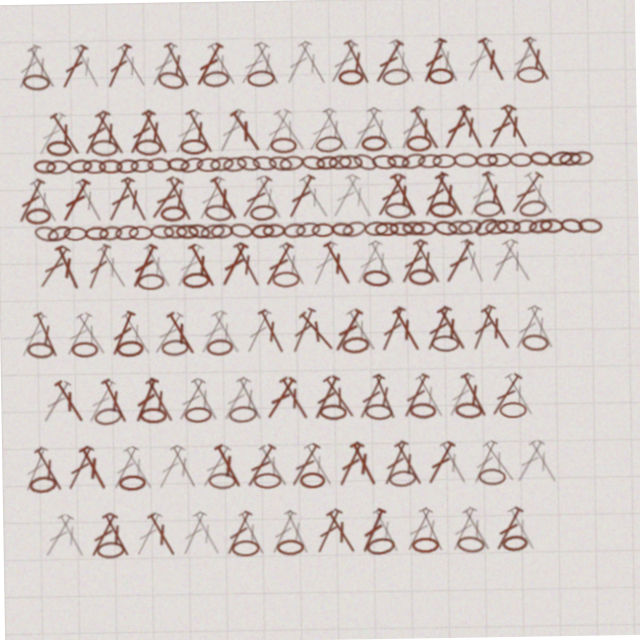chain: (160, 67, 190, 89), (474, 218, 501, 241), (362, 537, 392, 557), (354, 152, 381, 174), (520, 202, 549, 222), (92, 403, 121, 423), (47, 219, 74, 240), (181, 153, 208, 173), (318, 135, 346, 154), (206, 202, 234, 221), (227, 404, 256, 422), (26, 69, 54, 87), (386, 69, 414, 87), (251, 203, 279, 221), (386, 203, 414, 221), (363, 270, 391, 288), (26, 337, 54, 355), (521, 337, 549, 355), (363, 404, 391, 422), (453, 404, 481, 422), (26, 471, 54, 489), (386, 471, 414, 489), (453, 538, 481, 556), (238, 153, 264, 172), (403, 153, 429, 172), (550, 153, 576, 172), (35, 220, 61, 239), (343, 220, 369, 239), (206, 69, 234, 86), (251, 69, 279, 86), (93, 136, 121, 153), (476, 203, 504, 220), (341, 337, 369, 354), (431, 337, 459, 354), (93, 538, 121, 555), (188, 220, 213, 239), (270, 154, 296, 172), (303, 154, 329, 172), (201, 221, 227, 239), (434, 221, 460, 239), (529, 221, 555, 239), (138, 136, 165, 153), (431, 203, 458, 220), (183, 270, 210, 287), (116, 337, 143, 354), (161, 337, 188, 354), (206, 337, 233, 354), (318, 404, 345, 421), (408, 404, 435, 421), (206, 471, 233, 488), (476, 471, 503, 488), (498, 538, 525, 555), (561, 221, 586, 239), (251, 472, 279, 488), (228, 539, 256, 555), (49, 136, 75, 153), (364, 136, 390, 153), (254, 154, 280, 171), (281, 154, 307, 171), (27, 203, 53, 220), (162, 203, 188, 220), (409, 270, 435, 287), (521, 70, 548, 86), (183, 137, 210, 153), (273, 137, 300, 153), (138, 271, 165, 287), (273, 271, 300, 287), (71, 338, 98, 354), (138, 405, 165, 421), (183, 405, 210, 421), (498, 405, 525, 421), (116, 472, 143, 488), (273, 539, 300, 555), (408, 539, 435, 555), (212, 154, 237, 171), (531, 154, 556, 171), (116, 221, 141, 238), (230, 221, 255, 238), (297, 221, 322, 238), (459, 221, 484, 238), (342, 70, 368, 86), (432, 70, 458, 86), (409, 137, 435, 153), (297, 472, 323, 488), (48, 155, 73, 171), (225, 155, 250, 171), (374, 155, 399, 171), (420, 155, 445, 171), (390, 222, 415, 238), (449, 222, 474, 238), (514, 222, 539, 238), (579, 222, 604, 238), (118, 155, 142, 171), (318, 155, 342, 171), (389, 155, 413, 171), (561, 155, 585, 171), (100, 222, 124, 238), (252, 222, 276, 238), (284, 222, 308, 238), (332, 222, 356, 238), (403, 222, 427, 238), (486, 222, 510, 238), (70, 155, 95, 170), (150, 155, 174, 170), (169, 155, 193, 170), (341, 155, 365, 170), (456, 155, 480, 170), (572, 155, 596, 170), (152, 222, 176, 237), (165, 222, 189, 237), (366, 222, 390, 237), (498, 222, 522, 237), (541, 222, 565, 237), (36, 155, 59, 170), (331, 155, 354, 170), (177, 222, 200, 237), (212, 222, 235, 237), (85, 156, 109, 170), (101, 156, 125, 170), (199, 156, 223, 170), (435, 156, 459, 170), (490, 156, 514, 170), (65, 223, 89, 237), (86, 223, 110, 237), (130, 223, 154, 237), (376, 223, 400, 237), (413, 223, 437, 237), (133, 156, 156, 170), (478, 156, 501, 170), (512, 156, 535, 170), (264, 223, 287, 237), (313, 223, 336, 237)
double: (296, 308, 338, 354), (148, 173, 188, 220), (508, 173, 548, 220), (477, 441, 517, 488), (148, 307, 187, 355), (260, 374, 299, 422), (485, 374, 524, 422), (274, 106, 313, 153), (319, 374, 358, 421), (239, 39, 277, 87), (50, 106, 88, 154), (230, 106, 268, 154), (298, 173, 336, 221), (343, 307, 381, 355), (36, 374, 74, 422), (194, 441, 232, 489), (239, 441, 277, 489), (36, 508, 74, 556), (239, 173, 277, 220), (36, 240, 74, 287), (28, 39, 65, 87), (118, 39, 155, 87), (208, 39, 245, 87), (329, 39, 366, 87), (374, 39, 411, 87), (36, 106, 73, 154), (95, 106, 132, 154), (306, 106, 343, 154), (351, 106, 388, 154), (486, 106, 523, 154), (59, 173, 96, 221), (329, 173, 366, 221), (523, 173, 560, 221), (95, 240, 132, 288), (261, 240, 298, 288), (441, 240, 478, 288), (500, 240, 537, 288), (118, 307, 155, 355), (163, 307, 200, 355), (208, 307, 245, 355), (329, 307, 366, 355), (478, 307, 515, 355), (81, 374, 118, 422), (275, 374, 312, 422), (500, 374, 537, 422), (118, 441, 155, 489), (253, 441, 290, 489), (284, 441, 321, 489), (298, 441, 335, 489), (509, 441, 546, 489), (523, 441, 560, 489), (320, 508, 357, 556), (150, 38, 186, 87), (285, 172, 321, 221), (141, 239, 177, 288), (217, 239, 253, 288), (321, 239, 357, 288), (60, 306, 96, 355), (195, 306, 231, 355), (186, 373, 222, 422), (186, 507, 222, 556), (397, 507, 433, 556), (374, 173, 411, 220), (73, 307, 110, 354), (50, 374, 87, 421), (195, 39, 231, 87), (299, 39, 335, 87), (172, 106, 208, 154), (262, 106, 298, 154), (411, 106, 447, 154), (434, 173, 470, 221), (172, 240, 208, 288), (487, 240, 523, 288), (389, 307, 425, 355), (434, 307, 470, 355), (141, 374, 177, 422), (172, 374, 208, 422), (217, 374, 253, 422), (411, 374, 447, 422), (29, 441, 65, 489), (150, 441, 186, 489), (389, 441, 425, 489), (420, 441, 456, 489), (82, 508, 118, 556), (141, 508, 177, 556), (456, 508, 492, 556), (487, 508, 523, 556), (501, 508, 537, 556), (74, 38, 109, 87), (285, 38, 320, 87), (465, 38, 500, 87), (479, 38, 514, 87), (510, 38, 545, 87), (524, 38, 559, 87), (82, 105, 117, 154), (127, 105, 162, 154), (186, 105, 221, 154), (217, 105, 252, 154), (501, 105, 536, 154), (15, 172, 50, 221), (105, 172, 140, 221), (195, 172, 230, 221), (344, 172, 379, 221), (389, 172, 424, 221), (186, 239, 221, 288), (231, 239, 266, 288), (352, 239, 387, 288), (366, 239, 401, 288), (397, 239, 432, 288), (411, 239, 446, 288), (524, 306, 559, 355), (397, 373, 432, 422), (442, 373, 477, 422), (456, 373, 491, 422), (60, 440, 95, 489), (74, 440, 109, 489), (164, 440, 199, 489), (209, 440, 244, 489), (51, 507, 86, 556), (96, 507, 131, 556), (127, 507, 162, 556), (366, 507, 401, 556), (442, 106, 477, 154), (29, 173, 64, 221), (74, 173, 109, 221), (209, 173, 244, 221), (510, 307, 545, 355), (434, 441, 469, 489), (165, 38, 199, 87), (255, 38, 289, 87), (345, 38, 379, 87), (390, 38, 424, 87), (142, 105, 176, 154), (398, 105, 432, 154), (457, 105, 491, 154), (120, 172, 154, 221), (165, 172, 199, 221), (255, 172, 289, 221), (466, 172, 500, 221), (128, 239, 162, 288), (308, 239, 342, 288), (255, 306, 289, 355), (421, 306, 455, 355), (97, 373, 131, 422), (232, 373, 266, 422), (345, 440, 379, 489), (376, 440, 410, 489), (173, 507, 207, 556), (277, 507, 311, 556), (308, 507, 342, 556), (443, 507, 477, 556), (61, 39, 95, 87), (322, 106, 356, 154), (367, 106, 401, 154), (277, 240, 311, 288), (16, 307, 50, 355), (241, 307, 275, 355), (308, 374, 342, 422), (353, 374, 387, 422), (106, 441, 140, 489), (331, 441, 365, 489), (218, 508, 252, 556), (232, 508, 266, 556), (435, 38, 468, 87), (421, 172, 454, 221), (30, 306, 63, 355), (106, 306, 139, 355), (376, 306, 409, 355), (128, 373, 161, 422), (353, 507, 386, 556), (412, 507, 445, 556), (106, 39, 139, 87), (466, 441, 499, 489), (263, 508, 296, 556), (17, 38, 49, 87), (422, 38, 454, 87), (481, 172, 513, 221), (53, 239, 85, 288), (458, 239, 490, 288), (287, 306, 319, 355), (467, 306, 499, 355), (368, 373, 400, 422), (17, 440, 49, 489), (84, 239, 115, 288)
